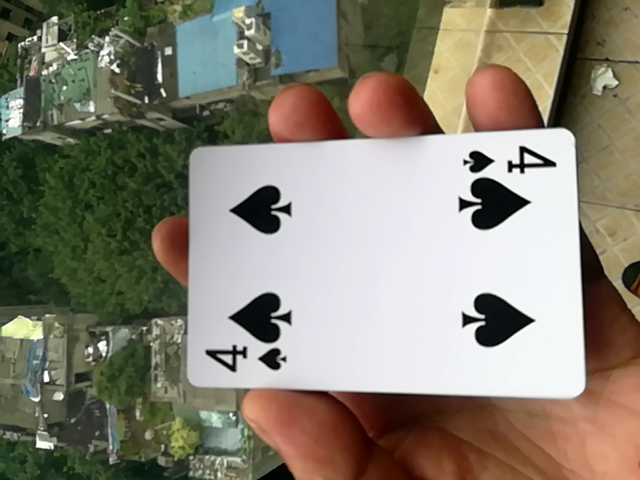ht 4: (172, 131, 581, 405)
